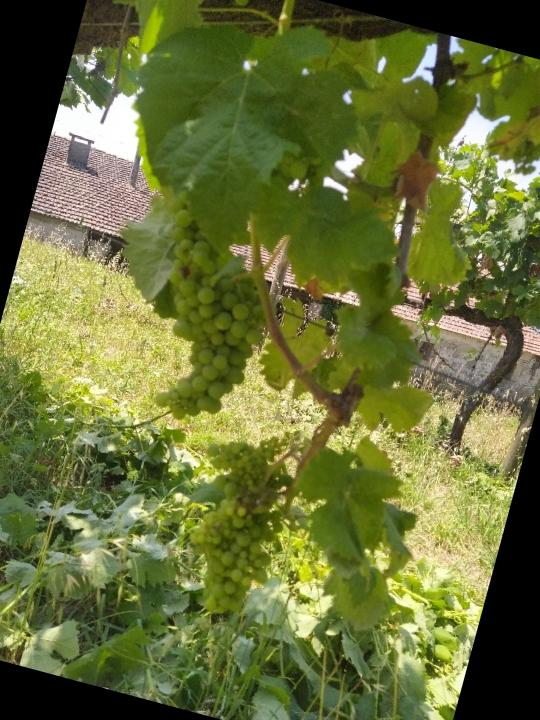grape: (130, 227, 286, 436), (167, 480, 295, 630)
